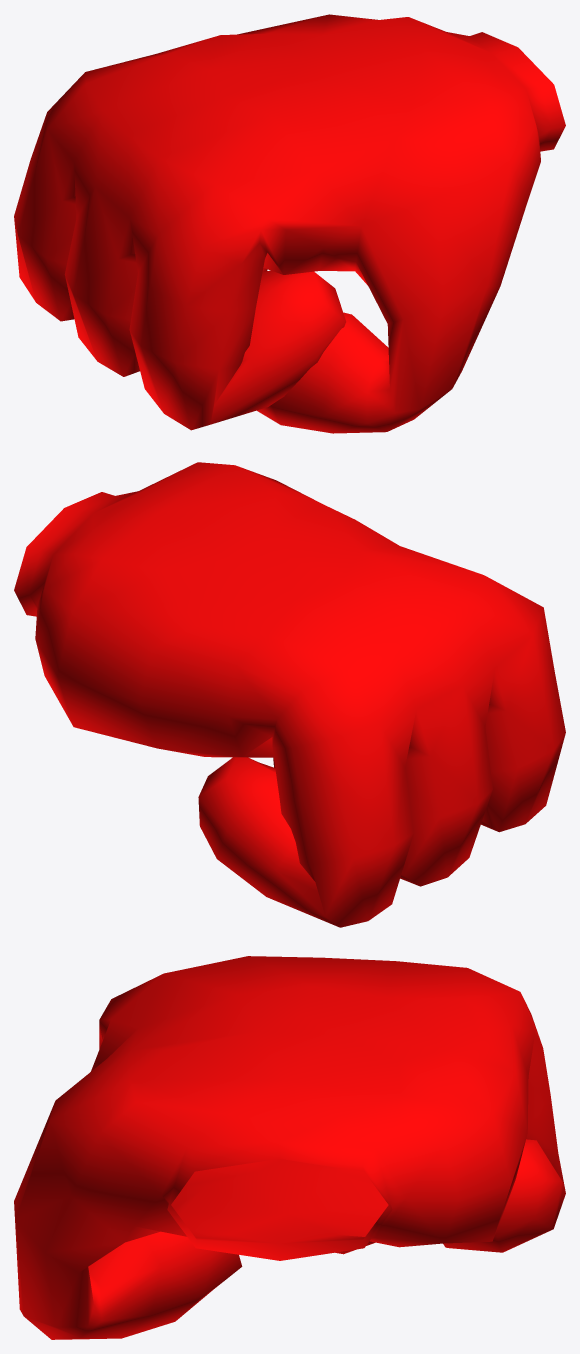
Rendered from closeHand.dae.
The picture shows the model from 3 angles, top to bottom: view 1: azimuth 30°, elevation 25°; view 2: azimuth 150°, elevation 25°; view 3: azimuth 270°, elevation 25°; orthographic projection. The views are drawn at different scales.
Parts seen in each view (by area): view 1: closedHand; view 2: closedHand; view 3: closedHand.
Part boxes in pixels (<box>): closedHand: <box>14,14,565,433</box>; closedHand: <box>14,462,565,927</box>; closedHand: <box>14,956,565,1339</box>.
Size of the model in its own units: 7.94 by 7.63 by 5.19.
